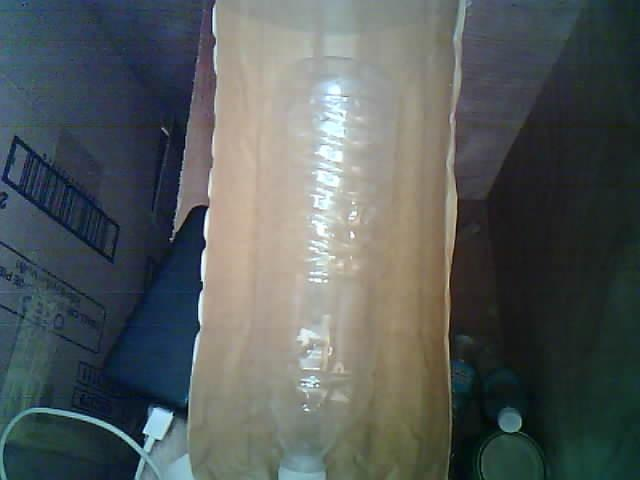large_bottle: (242, 41, 413, 480)
